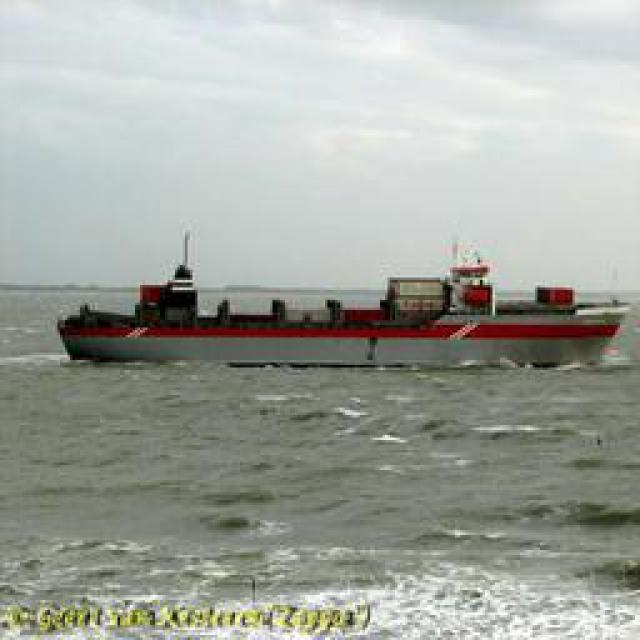Ship: (71, 241, 624, 371)
